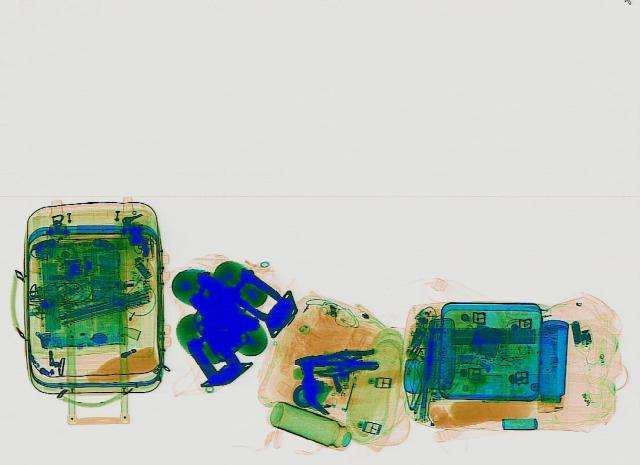Pliers: (293, 348, 375, 371)
